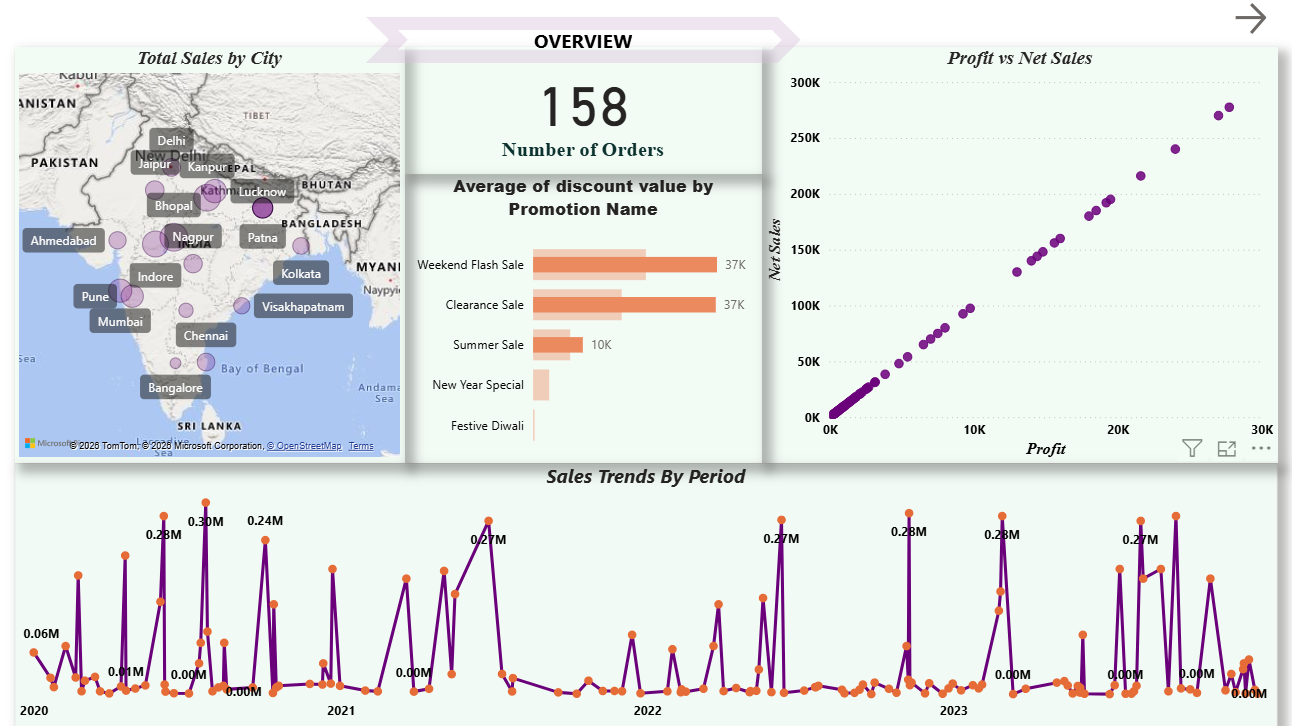

This screenshot's page, from the dashboard's own definition file:
{"tool":"powerbi","page":{"name":"Overview ","canvas":[1280,720],"ordinal":0},"visuals":[{"type":"lineChart","title":"Sales Trends By Period","fields":{"Y":["Sum(Fact Table.Net Sales)"],"Category":["Fact Table.Date (dd/mm/yyyy).Variation.Date Hierarchy.Year"]},"box":[31.6,443.2,1235,258],"z":0},{"type":"scatterChart","title":"Profit vs Net Sales","fields":{"X":["Fact Table.Profit "],"Y":["Fact Table.Net Sales"]},"box":[761.8,13.5,505,417],"z":1000},{"type":"barChart","fields":{"Y":["Avg(Fact Table.discount value)"],"Category":["Dim Promotion.Promotion Name"]},"box":[403.4,148.2,349.9,282.7],"z":2000},{"type":"map","fields":{"Category":["Dim Customers.City"],"Size":["Sum(Fact Table.Total Sales)"]},"box":[31.8,13.5,360.7,417],"z":3000},{"type":"card","fields":{"Values":["Count(Fact Table.Order ID)"]},"box":[403.4,12.3,349.9,124.9],"z":4000}]}

Visuals, with their boxes in screenshot pixels (x1, y1, x2, y2), scaled from the page's 1280x720 canvas onto the 1292x726 screenshot:
"Sales Trends By Period" lineChart: l=32, t=447, r=1278, b=707
"Profit vs Net Sales" scatterChart: l=769, t=14, r=1279, b=434
barChart - Avg(Fact Table.discount value) x Dim Promotion.Promotion Name: l=407, t=149, r=760, b=434
map - Dim Customers.City x Sum(Fact Table.Total Sales): l=32, t=14, r=396, b=434
card - Count(Fact Table.Order ID): l=407, t=12, r=760, b=138
